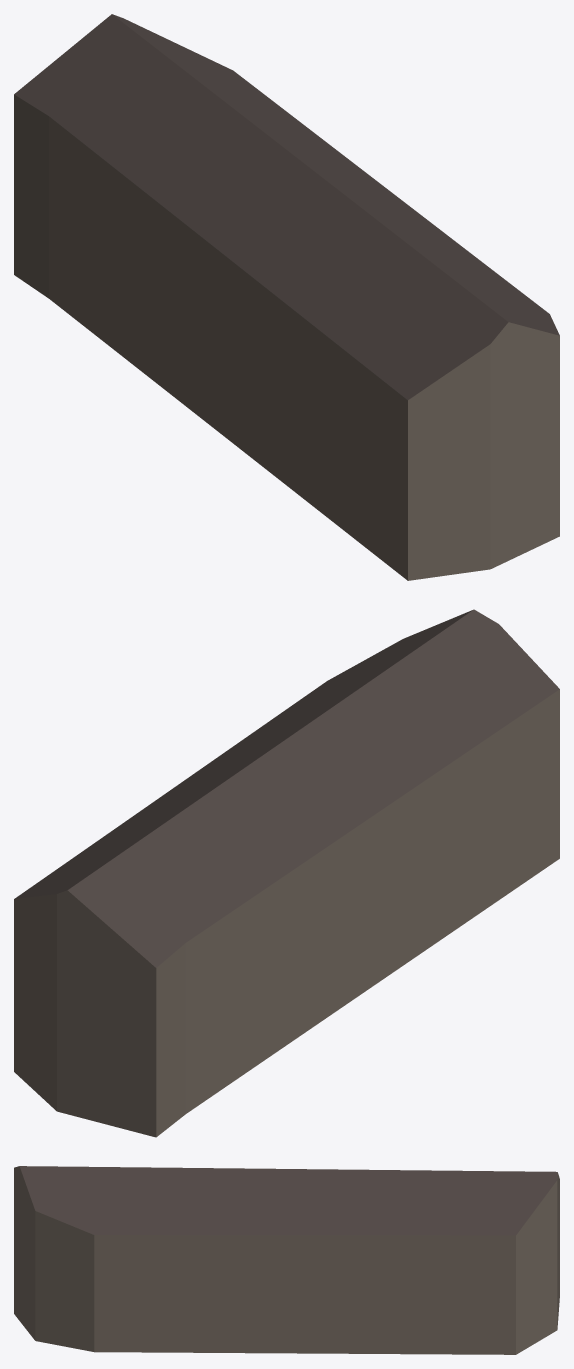
3 renders of one model, top to bottom at view 1: azimuth 30°, elevation 25°; view 2: azimuth 150°, elevation 25°; view 3: azimuth 270°, elevation 25°, orthographic. The views are drawn at different scales.
Visible parts, largest first — view 1: HP-w1515071142; view 2: HP-w1515071142; view 3: HP-w1515071142.
Part boxes in pixels (<box>): HP-w1515071142: <box>14,14,559,580</box>; HP-w1515071142: <box>14,609,559,1137</box>; HP-w1515071142: <box>14,1166,559,1354</box>.
Size of the model in its own units: 10.61 by 11.9 by 38.03.
